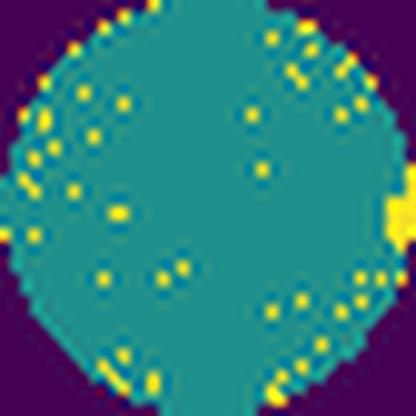Edge-Loc: (378, 162, 416, 254)
